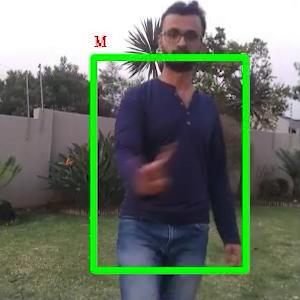takeoff-hand: (136, 139, 180, 192)
